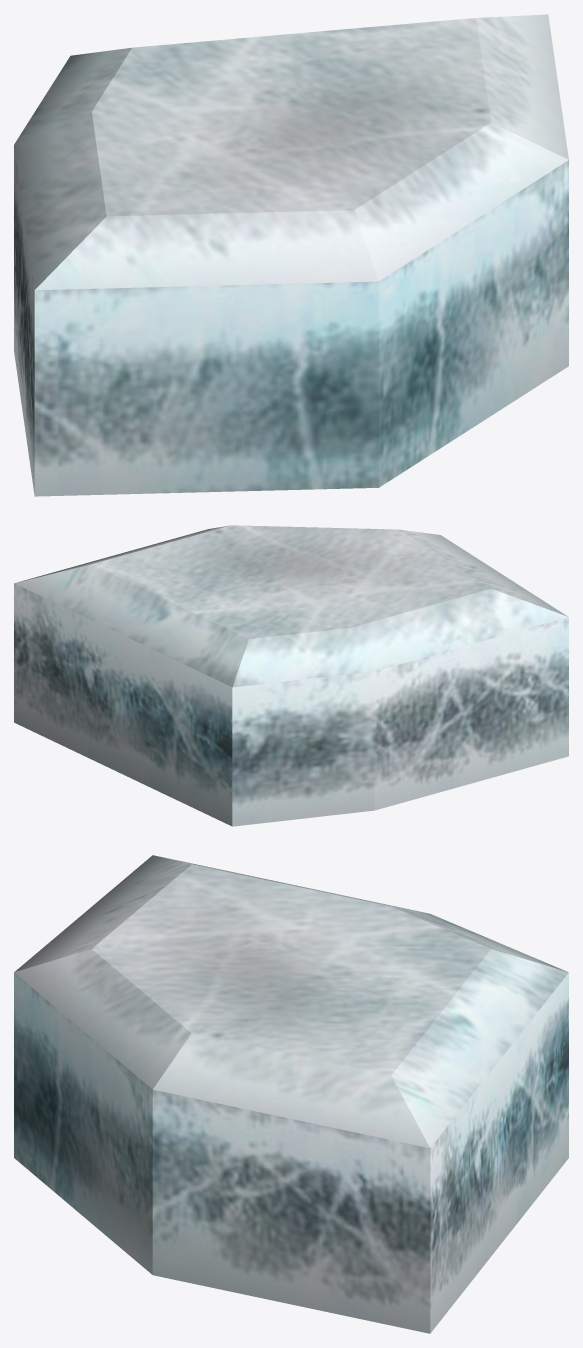
File: iceberg_1.fbx
3 views of the same model, one above another, from view 1: azimuth 30°, elevation 25°; view 2: azimuth 150°, elevation 25°; view 3: azimuth 270°, elevation 25° (orthographic). The views are drawn at different scales.
Parts seen in each view (by area): view 1: pCylinder11; view 2: pCylinder11; view 3: pCylinder11.
Boxes of the visible parts, left/top/right/bottom form: pCylinder11: left=14, top=14, right=568, bottom=496; pCylinder11: left=14, top=525, right=568, bottom=826; pCylinder11: left=14, top=855, right=568, bottom=1333.
Size of the model in its own units: 5 by 1.73 by 4.
